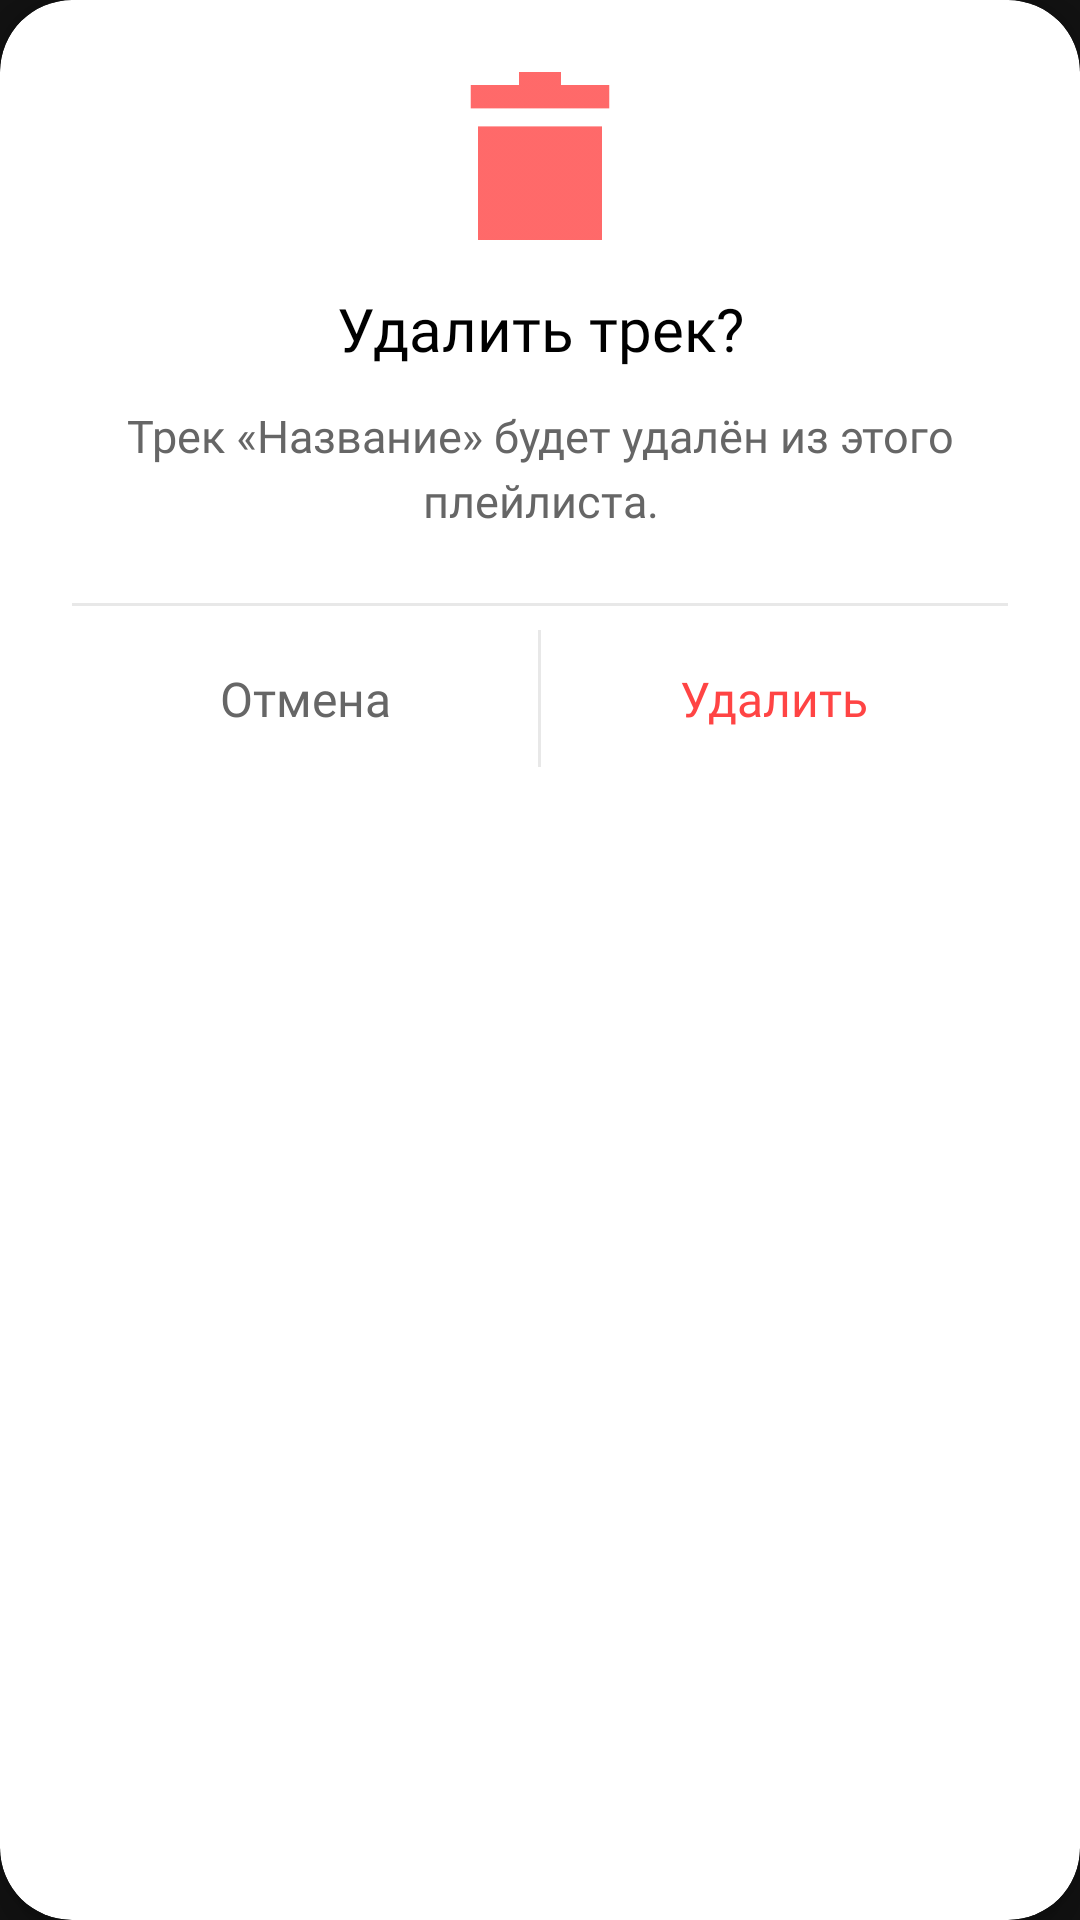

Locate icon controls on the screen. Image size 1080×1920, boxes as box(x1, y1, x2, y2).
delete: box(470, 72, 610, 240)
